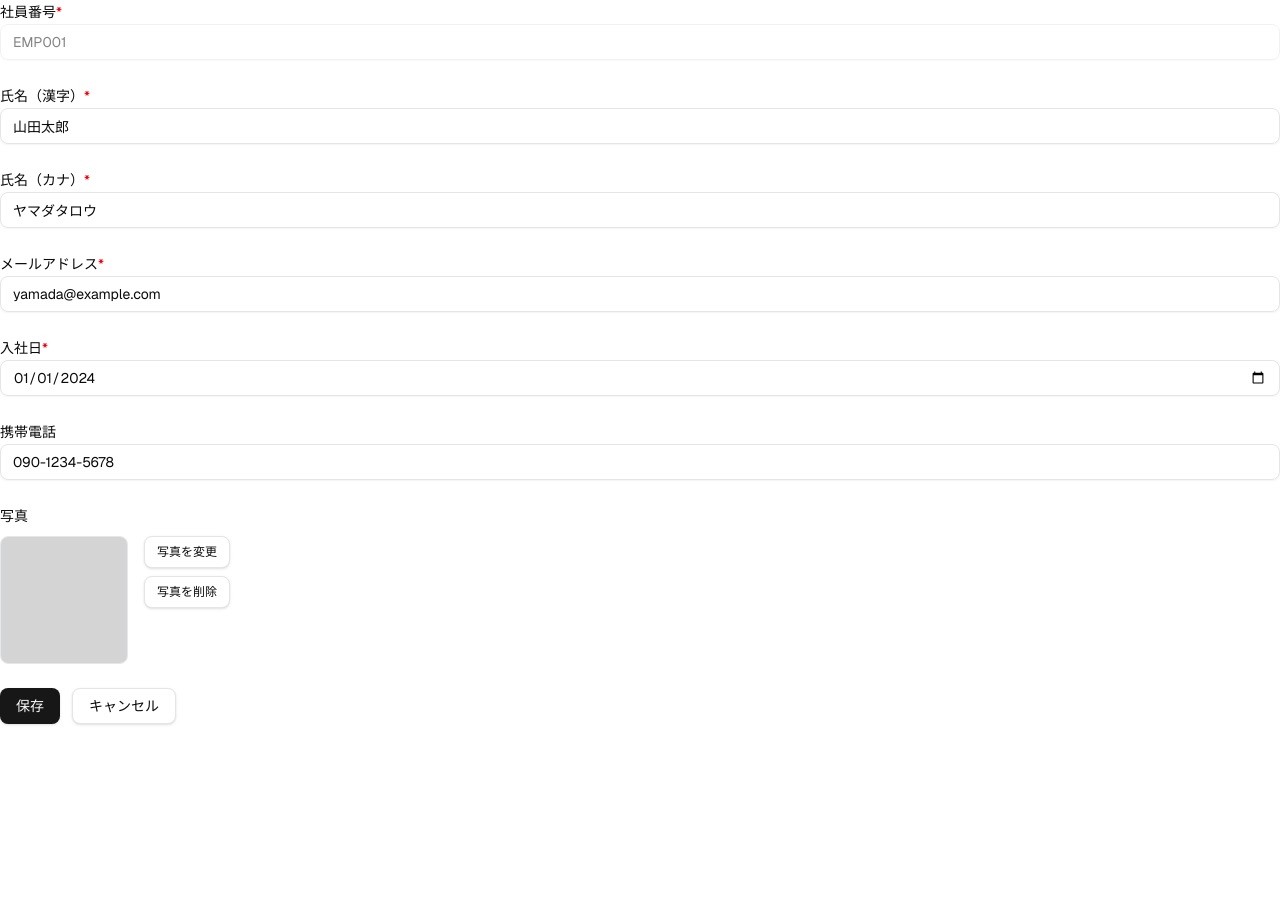
EmployeeForm › 写真アップロードUI (Task 5.1) › 写真削除機能 › 削除ボタンクリック時に確認ダイアログが表示される
Click the button "写真を削除".
click(187, 592)  # box [144, 576, 230, 608]
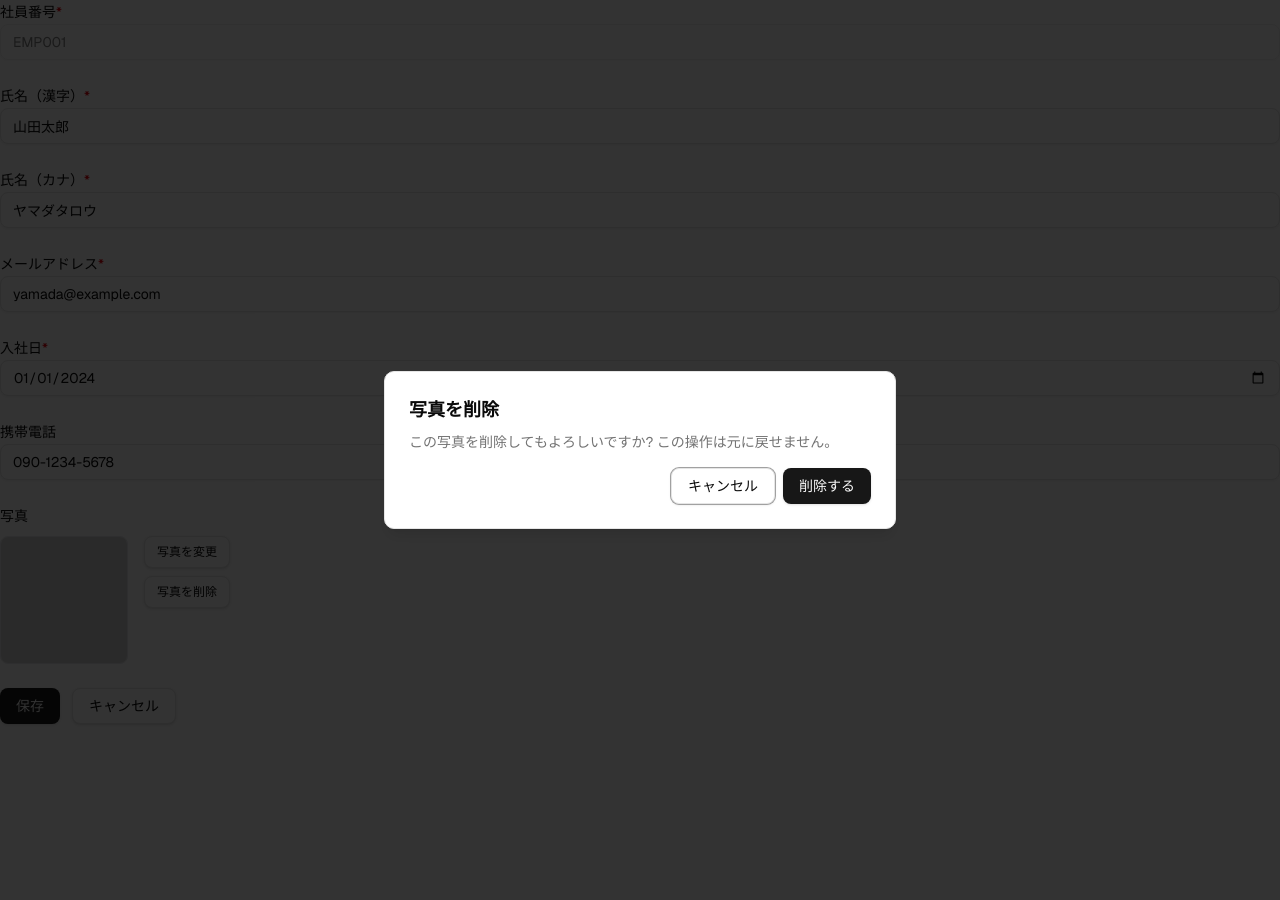
Expected: the dialog is shown, [384, 371, 896, 529]
Expected: the dialog shows "削除してもよろしいですか", [409, 433, 838, 451]
